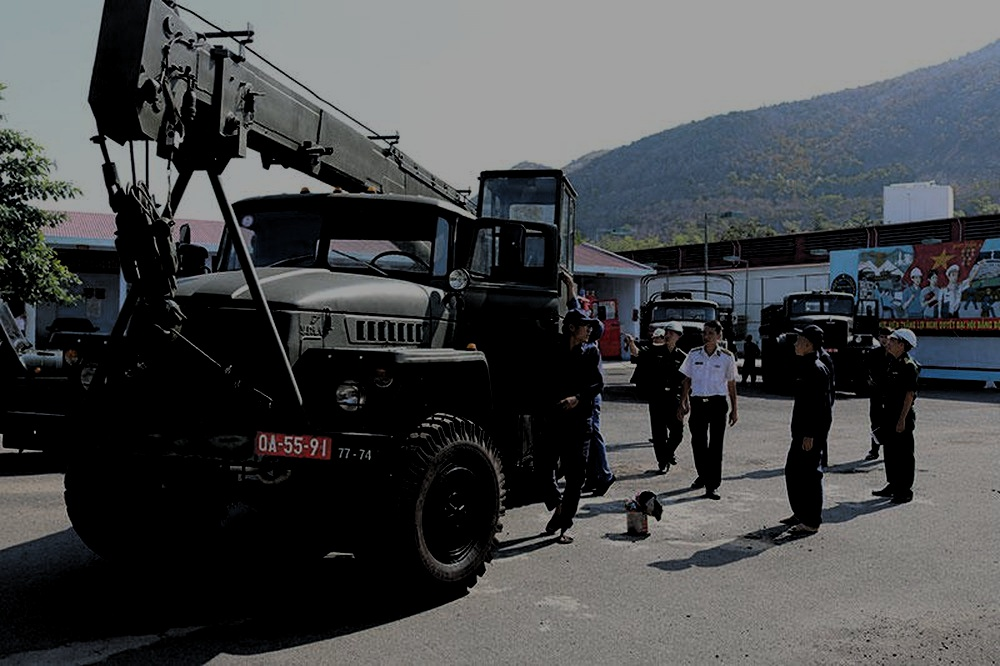plate: (252, 428, 336, 468)
